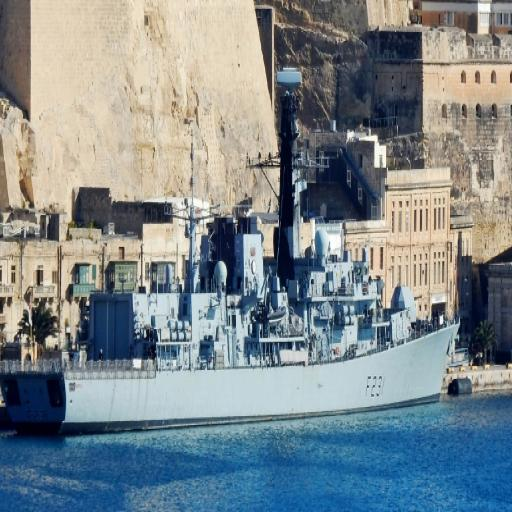Fragata: (1, 64, 462, 446)
